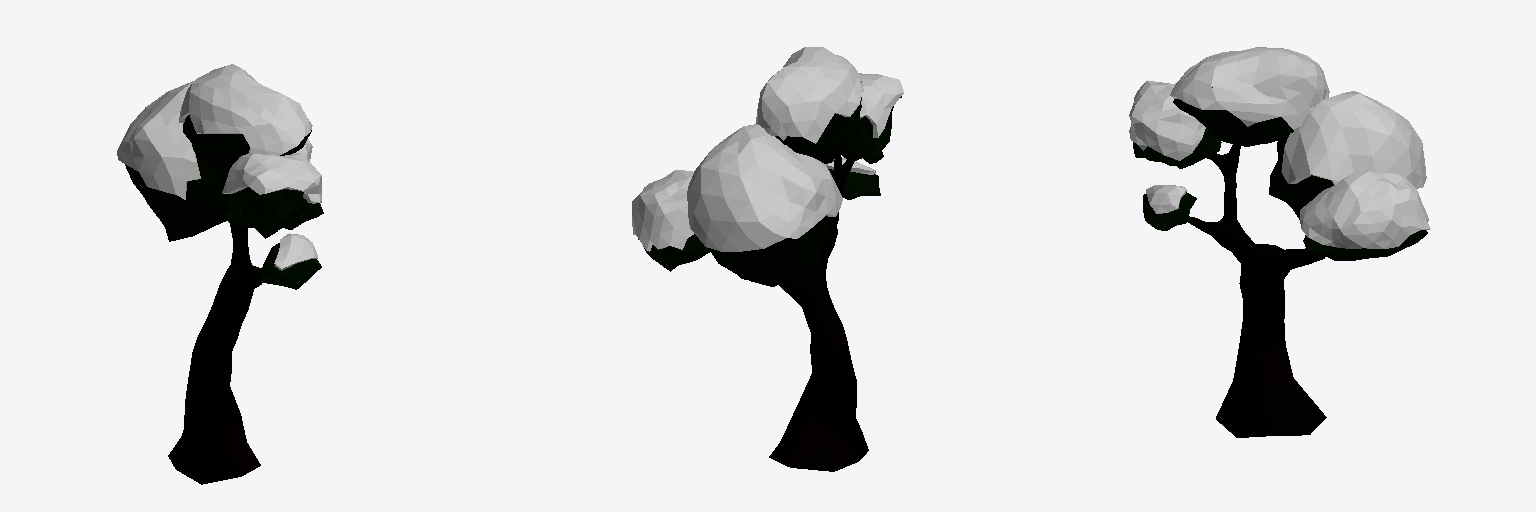
File: common_tree_2_snow.obj
3 renders of one model, left to right at view 1: azimuth 30°, elevation 25°; view 2: azimuth 150°, elevation 25°; view 3: azimuth 270°, elevation 25°, orthographic.
Parts seen in each view (by area): view 1: common_tree_2_snow_snow, common_tree_2_snow_trunk, common_tree_2_snow_leaves_dark, common_tree_2_snow_leaves; view 2: common_tree_2_snow_snow, common_tree_2_snow_trunk, common_tree_2_snow_leaves_dark, common_tree_2_snow_leaves; view 3: common_tree_2_snow_snow, common_tree_2_snow_trunk, common_tree_2_snow_leaves_dark, common_tree_2_snow_leaves.
Part boxes in pixels (left/top/right/bottom): common_tree_2_snow_snow: left=117, top=64, right=321, bottom=270; common_tree_2_snow_trunk: left=168, top=174, right=261, bottom=484; common_tree_2_snow_leaves_dark: left=125, top=115, right=311, bottom=241; common_tree_2_snow_leaves: left=223, top=187, right=323, bottom=289; common_tree_2_snow_snow: left=632, top=47, right=903, bottom=251; common_tree_2_snow_trunk: left=769, top=149, right=868, bottom=471; common_tree_2_snow_leaves_dark: left=708, top=97, right=861, bottom=286; common_tree_2_snow_leaves: left=638, top=96, right=901, bottom=271; common_tree_2_snow_snow: left=1129, top=47, right=1430, bottom=248; common_tree_2_snow_trunk: left=1188, top=144, right=1326, bottom=437; common_tree_2_snow_leaves_dark: left=1173, top=87, right=1333, bottom=219; common_tree_2_snow_leaves: left=1133, top=128, right=1427, bottom=260.
Size of the model in its own units: 2.59 by 5.36 by 3.81.